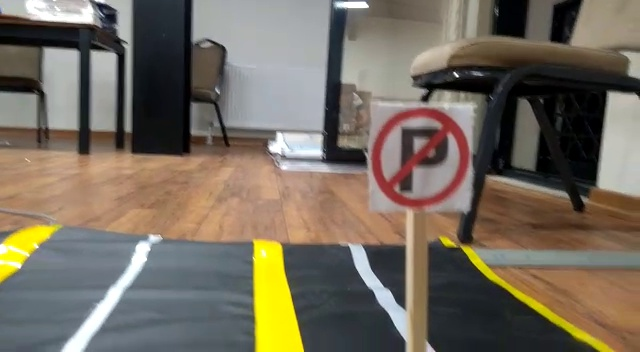park_yapilmaz: (370, 100, 470, 210)
